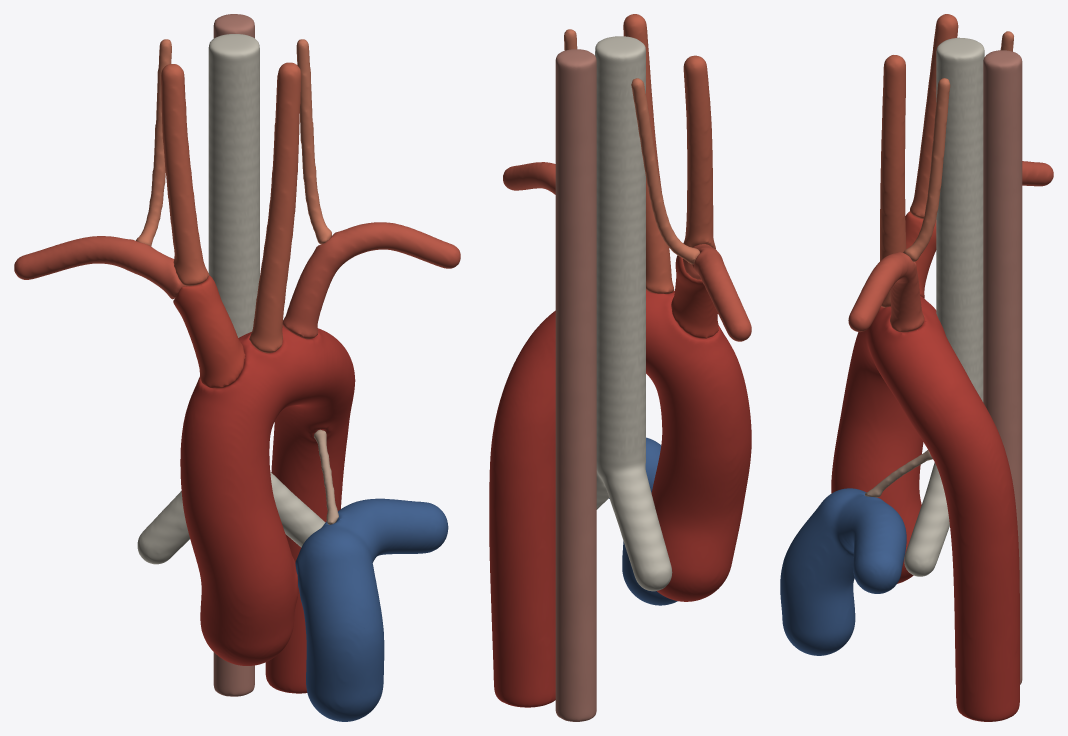
File: aorta_normal.glb
The picture shows the model from 3 angles, left to right: view 1: azimuth 30°, elevation 25°; view 2: azimuth 150°, elevation 25°; view 3: azimuth 270°, elevation 25°; orthographic projection. The views are drawn at different scales.
Visible parts, largest first — view 1: aorta, pulmonary_trunk, trachea, left_common_carotid, left_subclavian, right_common_carotid, right_subclavian, brachiocephalic_trunk, left_vertebral, oesophagus, right_vertebral, ligamentum_arteriosum; view 2: aorta, oesophagus, trachea, right_common_carotid, left_common_carotid, right_subclavian, right_vertebral, brachiocephalic_trunk, pulmonary_trunk, left_subclavian; view 3: aorta, trachea, oesophagus, pulmonary_trunk, left_common_carotid, left_subclavian, right_common_carotid, left_vertebral, brachiocephalic_trunk, right_subclavian, ligamentum_arteriosum.
Boxes of the visible parts, x1=… form: aorta: x1=180, y1=325, x2=355, y2=693; pulmonary_trunk: x1=295, y1=498, x2=448, y2=721; trachea: x1=137, y1=34, x2=325, y2=564; left_common_carotid: x1=249, y1=62, x2=301, y2=353; left_subclavian: x1=282, y1=222, x2=460, y2=339; right_common_carotid: x1=161, y1=64, x2=209, y2=285; right_subclavian: x1=14, y1=236, x2=189, y2=299; brachiocephalic_trunk: x1=173, y1=275, x2=245, y2=388; left_vertebral: x1=296, y1=39, x2=331, y2=244; oesophagus: x1=213, y1=14, x2=254, y2=696; right_vertebral: x1=136, y1=39, x2=171, y2=246; ligamentum_arteriosum: x1=314, y1=429, x2=338, y2=524; aorta: x1=489, y1=290, x2=751, y2=707; oesophagus: x1=555, y1=49, x2=596, y2=721; trachea: x1=595, y1=36, x2=672, y2=591; right_common_carotid: x1=683, y1=55, x2=715, y2=249; left_common_carotid: x1=623, y1=14, x2=674, y2=293; right_subclavian: x1=682, y1=244, x2=751, y2=341; right_vertebral: x1=631, y1=78, x2=700, y2=264; brachiocephalic_trunk: x1=671, y1=250, x2=718, y2=338; pulmonary_trunk: x1=609, y1=437, x2=677, y2=605; left_subclavian: x1=503, y1=162, x2=555, y2=194; aorta: x1=831, y1=296, x2=1019, y2=721; trachea: x1=904, y1=37, x2=984, y2=576; oesophagus: x1=983, y1=50, x2=1022, y2=684; pulmonary_trunk: x1=780, y1=488, x2=906, y2=655; left_common_carotid: x1=880, y1=55, x2=906, y2=307; left_subclavian: x1=848, y1=252, x2=924, y2=332; right_common_carotid: x1=910, y1=14, x2=958, y2=218; left_vertebral: x1=903, y1=78, x2=950, y2=261; brachiocephalic_trunk: x1=905, y1=211, x2=936, y2=298; right_subclavian: x1=1022, y1=161, x2=1053, y2=186; ligamentum_arteriosum: x1=865, y1=450, x2=932, y2=497.
Bounding box in the file's own units: 12.31 × 22.78 × 8.97.
